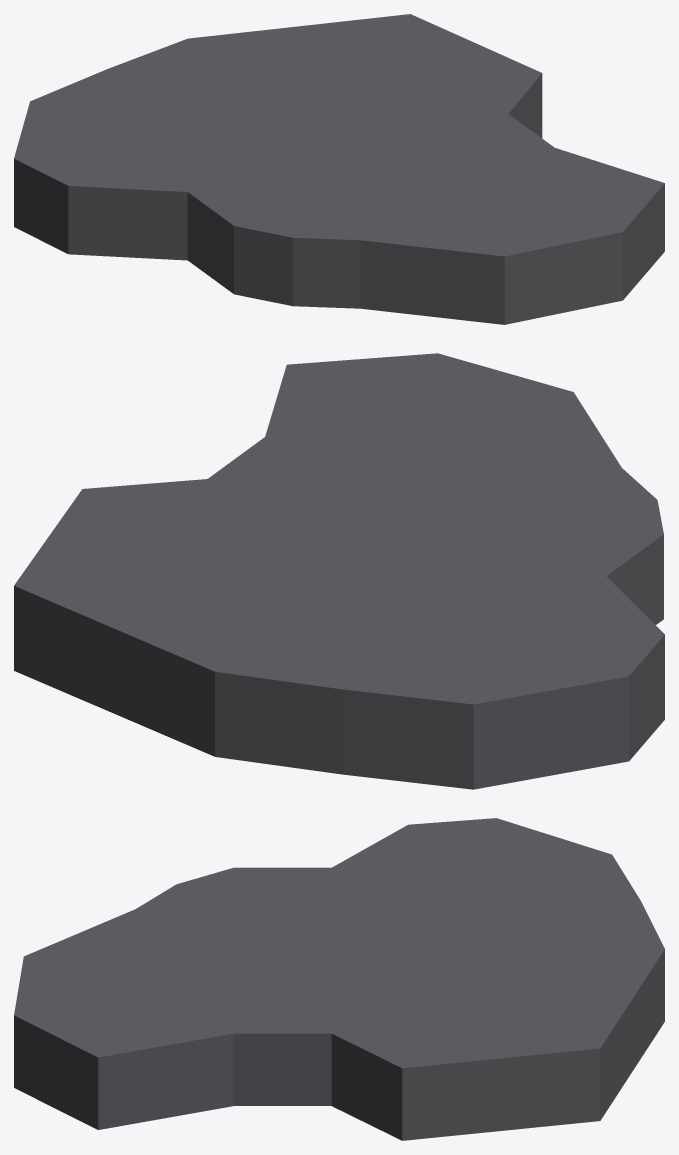
The model's file is Flat Rock_1.fbx.
3 renders of one model, top to bottom at view 1: azimuth 30°, elevation 25°; view 2: azimuth 150°, elevation 25°; view 3: azimuth 270°, elevation 25°, orthographic. The views are drawn at different scales.
Visible parts, largest first — view 1: Flat Rock_1; view 2: Flat Rock_1; view 3: Flat Rock_1.
Part boxes in pixels (x1,y1,x2,y2): Flat Rock_1: (14,14,664,324); Flat Rock_1: (14,353,664,789); Flat Rock_1: (14,818,664,1140).
Bounding box in the file's own units: 8.34 × 1.13 × 9.17.
